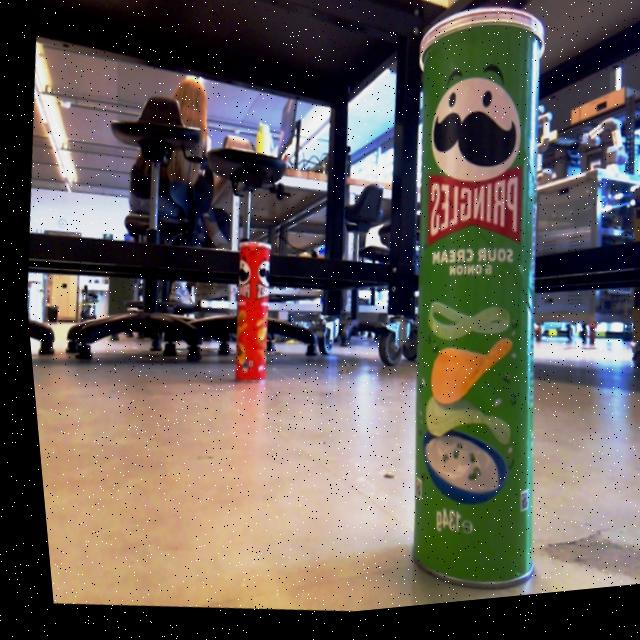greenpringles: (324, 0, 601, 616)
redpringles: (203, 230, 286, 393)
